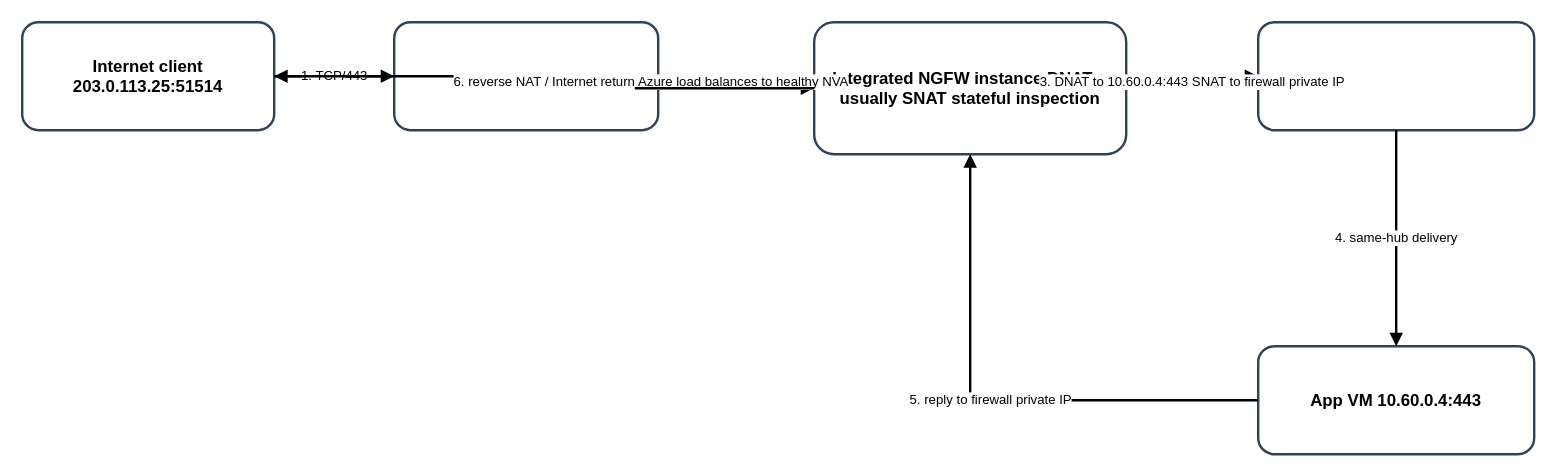
The diagram is 1555 pixels wide and 475 high, and some of its shapes have lost their labels. Here are the shapes that lost their labels. From the top down, the centre of each, then its label:
point 525,75: Azure Standard Public IP DNAT-enabled NVA deployment
point 1395,75: vHub router final private route lookup
